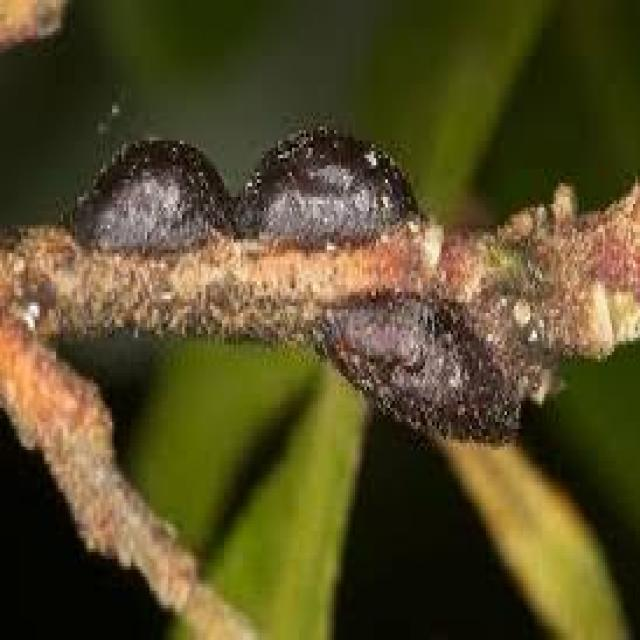Black Scale: (75, 123, 423, 246), (318, 292, 519, 440)
